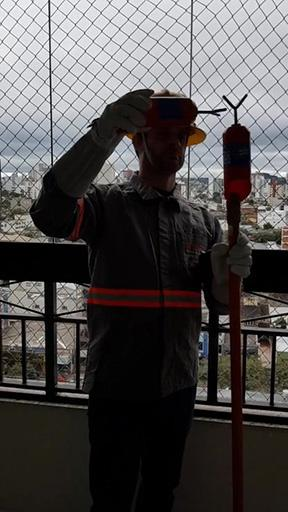Detector_Tensao_Contato: (220, 93, 254, 204), (134, 89, 229, 125)
Vara_Manobra: (224, 198, 244, 512)
